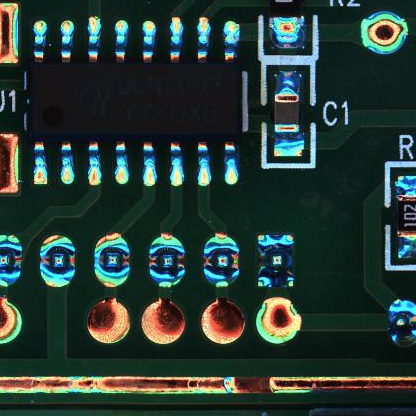spot: (146, 234, 189, 290), (92, 232, 132, 289), (360, 10, 409, 55), (201, 234, 241, 289), (256, 233, 296, 288), (38, 233, 78, 286), (1, 233, 23, 289)
